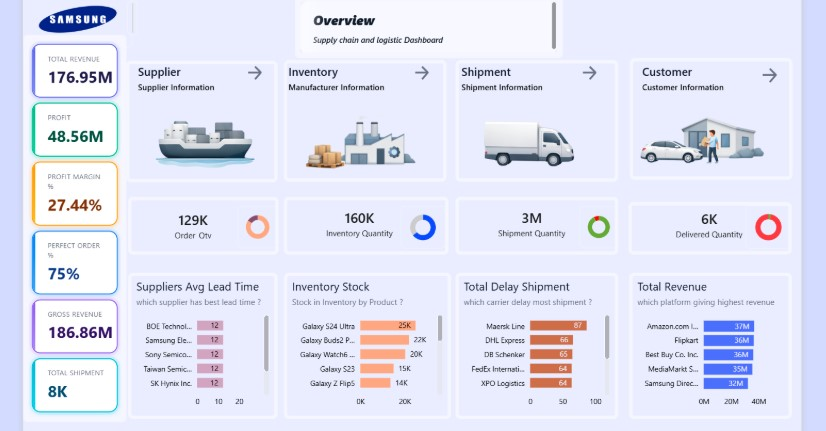

Layout of this report page (visuals, bound fields, positions):
{"tool":"powerbi","page":{"name":"Overview","canvas":[1280,720],"ordinal":1},"visuals":[{"type":"shape","box":[169.9,106.6,249.1,200],"z":0},{"type":"shape","box":[429.1,105.1,267.8,200],"z":1000},{"type":"shape","box":[711.4,105.1,267.8,200],"z":2000},{"type":"shape","box":[997.9,102.2,267.8,200],"z":3000},{"type":"image","box":[188.6,182.9,213.1,105.1],"z":4000},{"type":"image","box":[436.3,169.9,224.6,129.6],"z":5000},{"type":"image","box":[714.2,182.9,230.4,108],"z":6000},{"type":"image","box":[1006.6,169.9,230.4,129.6],"z":7000},{"type":"actionButton","box":[364.3,110.9,54.7,31.7],"z":8000},{"type":"actionButton","box":[915.8,110.9,56.2,31.7],"z":9000},{"type":"actionButton","box":[639.4,110.9,54.7,31.7],"z":10000},{"type":"actionButton","box":[1211,113.8,50.4,33.1],"z":11000},{"type":"shape","title":"Supplier","box":[188.6,110.9,194.4,59],"z":12000},{"type":"shape","title":"Shipment","box":[721.4,110.9,194.4,59],"z":13000},{"type":"shape","title":"Inventory","box":[436.3,110.9,203,54.7],"z":14000},{"type":"shape","title":"Customer","box":[1018.1,110.9,194.4,59],"z":15000},{"type":"shape","box":[171.4,7.2,17.3,57.6],"z":16000},{"type":"image","box":[0,0,180,85],"z":17000},{"type":"shape","box":[172.8,329.8,247.7,95],"z":24000},{"type":"shape","box":[429.1,329.8,270.7,95],"z":25000},{"type":"shape","box":[711.4,329.8,267.8,95],"z":26000},{"type":"shape","box":[996.2,339,268.9,86.2],"z":27000},{"type":"cardVisual","fields":{"Data":["Measures Table.Order_Qty"]},"box":[172.8,338.4,214.6,77.8],"z":28000},{"type":"cardVisual","fields":{"Data":["Measures Table.Inventory_Value"]},"box":[446.4,329.8,214.6,86.4],"z":29000},{"type":"cardVisual","fields":{"Data":["Measures Table.Total-Shipment_Quantity"]},"box":[730.1,329.8,214.6,86.4],"z":30000},{"type":"cardVisual","fields":{"Data":["Measures Table.Total_Delivered_Quantity"]},"box":[1018.1,335.5,220.3,80.6],"z":31000},{"type":"clusteredBarChart","title":"Suppliers Avg Lead Time","fields":{"Y":["Measures Table.Avg_Lead_Time"],"Category":["dim_supplier.supplier_name"]},"box":[172.8,455,246.2,240.5],"z":32000},{"type":"clusteredBarChart","title":"Inventory Stock","fields":{"Y":["Measures Table.Inventory_Value"],"Category":["dim_product.product_name"]},"box":[429.1,455,275,240.5],"z":33000},{"type":"clusteredBarChart","title":"Total Delay Shipment","fields":{"Y":["Measures Table.Total_Delay"],"Category":["fact_shipment.carrier"]},"box":[711.4,455,267.8,240.5],"z":34000},{"type":"clusteredBarChart","title":"Total Revenue","fields":{"Y":["Measures Table.Total_Revenue"],"Category":["dim_customer.customer_name"]},"box":[996.5,455,267.8,240.5],"z":35000},{"type":"donutChart","fields":{"Y":["Measures Table.Inventory_Value","Measures Table.safety_stock"]},"box":[620.6,345.6,73.4,70.6],"z":36000},{"type":"donutChart","fields":{"Y":["Measures Table.Total_Shipment","Measures Table.Total_Delay"]},"box":[915.8,345.6,63.4,69.1],"z":37000},{"type":"donutChart","fields":{"Y":["Measures Table.Total_Delivered_Quantity","Measures Table.Total_Qty_Delay"]},"box":[1188,344.2,76.3,72],"z":38000},{"type":"donutChart","fields":{"Y":["Measures Table.Order_Qty","Measures Table.Defect_Rate"]},"box":[352.8,345.6,66.2,69.1],"z":39000},{"type":"htmlContent443BE3AD55E043BF878BED274D3A6855","fields":{"content":["Measures Table.HTML_Page_Title"]},"box":[447,0,440.1,102.3],"z":40000},{"type":"htmlContent443BE3AD55E043BF878BED274D3A6855","fields":{"content":["Measures Table.HTML_Border_KPI_Panel"]},"box":[0,91.6,179.7,628.3],"z":40001},{"type":"slicer","fields":{"Values":["dim_product.product_name"]},"box":[1030,4.7,236.1,92.8],"z":40002}]}

Visuals, with their boxes on the page's 1280x720 design canvas (x1, y1, x2, y2). These are canvas units, not pixel positions in the 826x431 screenshot, which may show the page scaled, cropped or inside an application window:
shape: (170,107,419,307)
shape: (429,105,697,305)
shape: (711,105,979,305)
shape: (998,102,1266,302)
image: (189,183,402,288)
image: (436,170,661,300)
image: (714,183,945,291)
image: (1007,170,1237,300)
actionButton: (364,111,419,143)
actionButton: (916,111,972,143)
actionButton: (639,111,694,143)
actionButton: (1211,114,1261,147)
"Supplier" shape: (189,111,383,170)
"Shipment" shape: (721,111,916,170)
"Inventory" shape: (436,111,639,166)
"Customer" shape: (1018,111,1212,170)
shape: (171,7,189,65)
image: (0,0,180,85)
shape: (173,330,420,425)
shape: (429,330,700,425)
shape: (711,330,979,425)
shape: (996,339,1265,425)
cardVisual - Measures Table.Order_Qty: (173,338,387,416)
cardVisual - Measures Table.Inventory_Value: (446,330,661,416)
cardVisual - Measures Table.Total-Shipment_Quantity: (730,330,945,416)
cardVisual - Measures Table.Total_Delivered_Quantity: (1018,336,1238,416)
"Suppliers Avg Lead Time" clusteredBarChart: (173,455,419,696)
"Inventory Stock" clusteredBarChart: (429,455,704,696)
"Total Delay Shipment" clusteredBarChart: (711,455,979,696)
"Total Revenue" clusteredBarChart: (996,455,1264,696)
donutChart - Measures Table.Inventory_Value x Measures Table.safety_stock: (621,346,694,416)
donutChart - Measures Table.Total_Shipment x Measures Table.Total_Delay: (916,346,979,415)
donutChart - Measures Table.Total_Delivered_Quantity x Measures Table.Total_Qty_Delay: (1188,344,1264,416)
donutChart - Measures Table.Order_Qty x Measures Table.Defect_Rate: (353,346,419,415)
htmlContent443BE3AD55E043BF878BED274D3A6855 - Measures Table.HTML_Page_Title: (447,0,887,102)
htmlContent443BE3AD55E043BF878BED274D3A6855 - Measures Table.HTML_Border_KPI_Panel: (0,92,180,720)
slicer - dim_product.product_name: (1030,5,1266,98)
